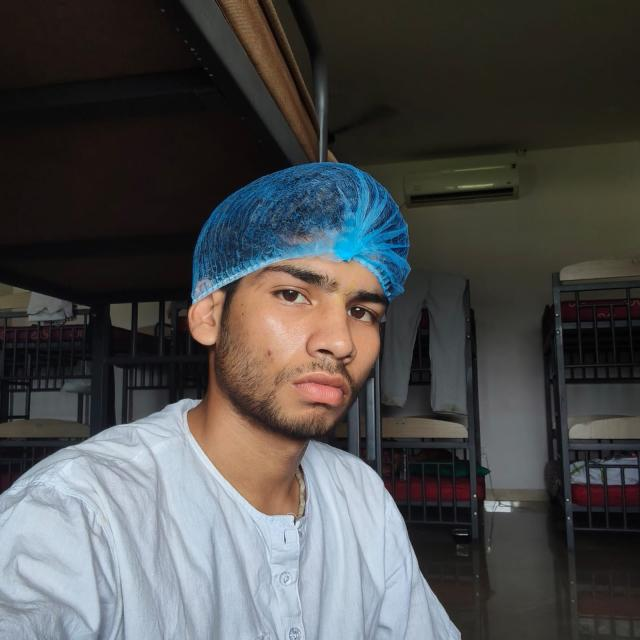hairnet-detection: (191, 163, 410, 303)
